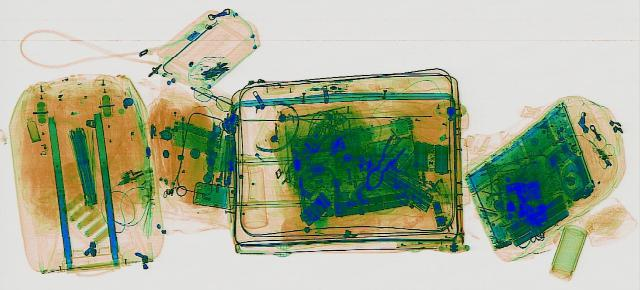Pliers: (356, 135, 410, 189)
